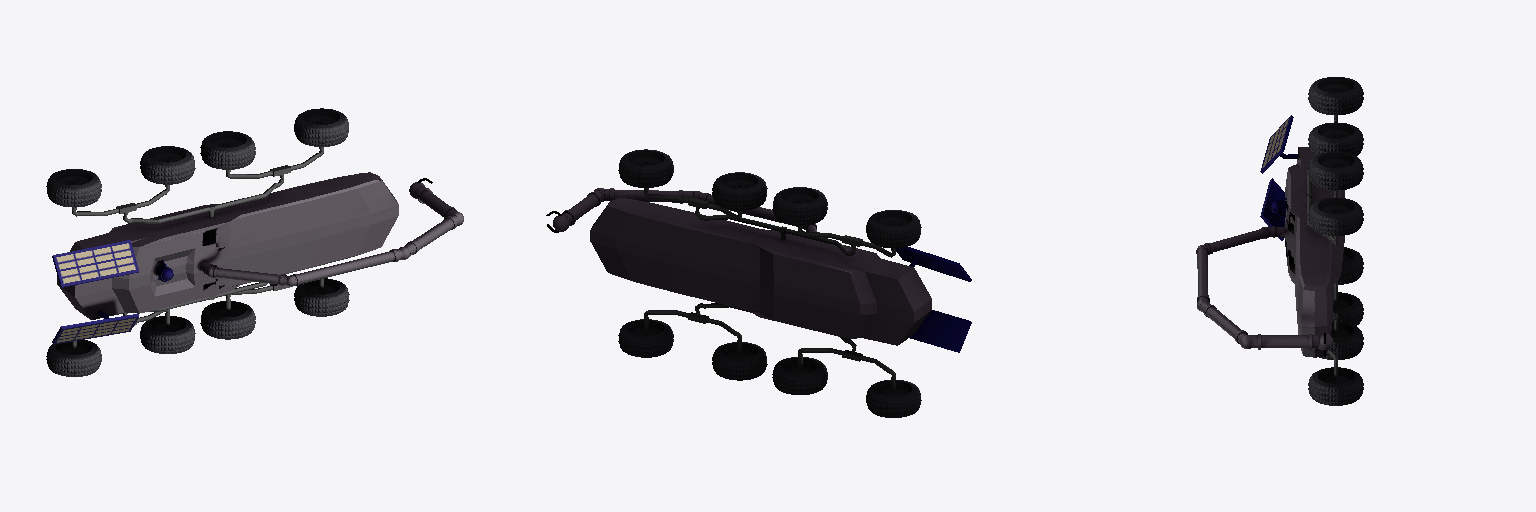
The picture shows the model from 3 angles: view 1: azimuth 30°, elevation 25°; view 2: azimuth 150°, elevation 25°; view 3: azimuth 270°, elevation 25°; orthographic projection.
Visible parts, largest first — view 1: rover_Plane; view 2: rover_Plane; view 3: rover_Plane.
Boxes of the visible parts, x1,y1,x2,y2 form: rover_Plane: [46, 108, 463, 376]; rover_Plane: [546, 149, 971, 417]; rover_Plane: [1196, 77, 1363, 405].
Size of the model in its own units: 9.54 by 4.37 by 3.48.
Materials: 2 (1 with a texture image).